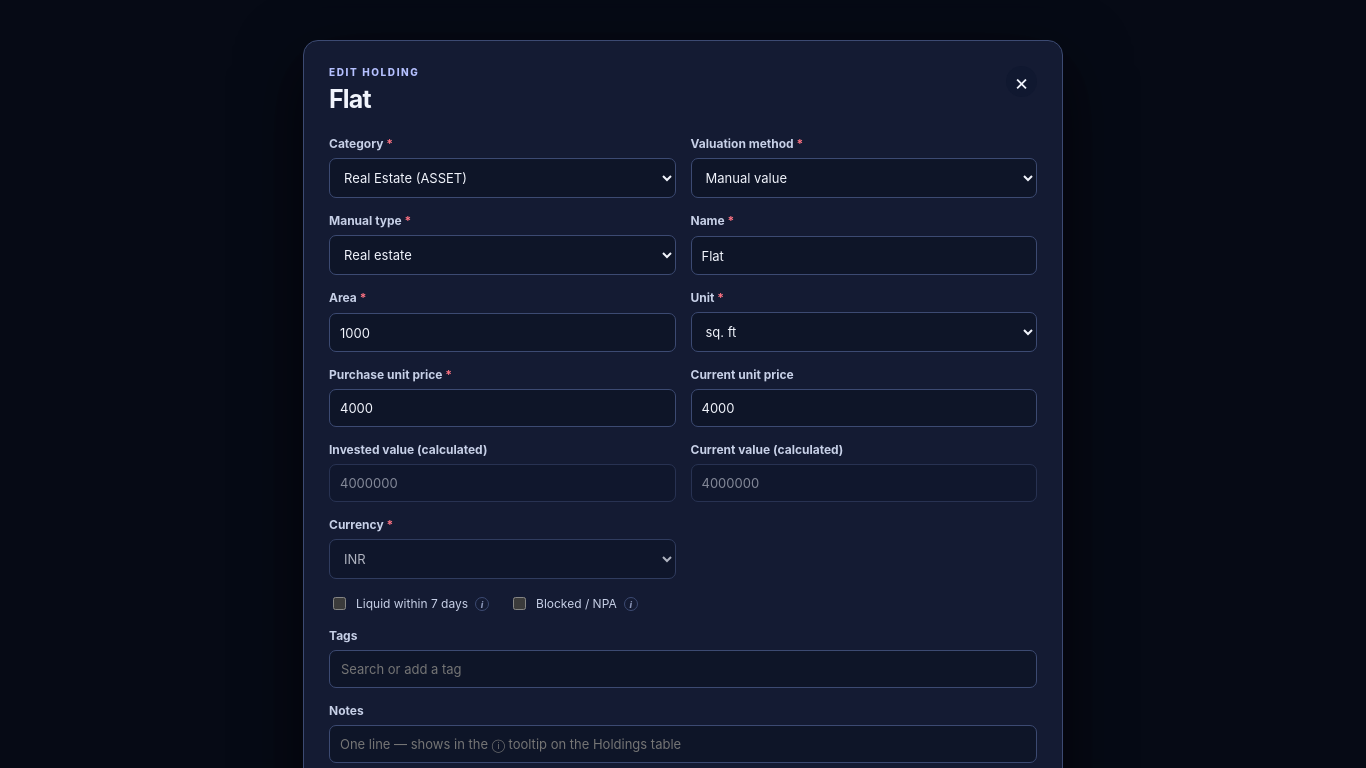
it: HoldingModal — manual types › editing a real-estate holding asks for area and both unit prices and recalculates
The image size is (1366, 768).
Expected: the number field labelled "Area *" holds "1000", [329, 313, 676, 352]
Expected: the number field labelled "Purchase unit price *" holds "4000", [329, 389, 676, 427]
Replace the text in the number field labelled "Current unit price" with "4500": (864,408) [690, 389, 1037, 427]
(page scrolled)
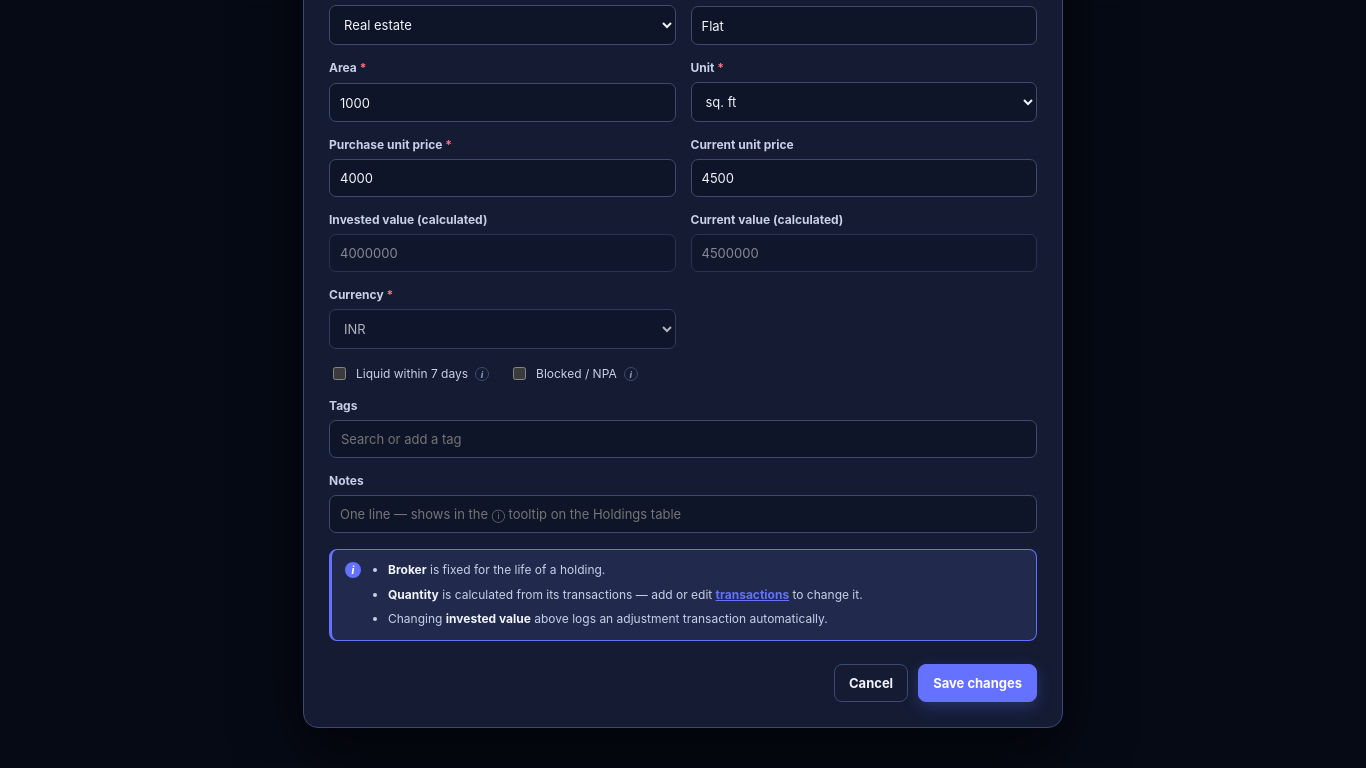
Expected: the field labelled "Current value (calculated)" holds "4500000", [690, 234, 1037, 272]
Expected: the list item "adjustment transaction" is shown, [531, 611, 828, 626]
